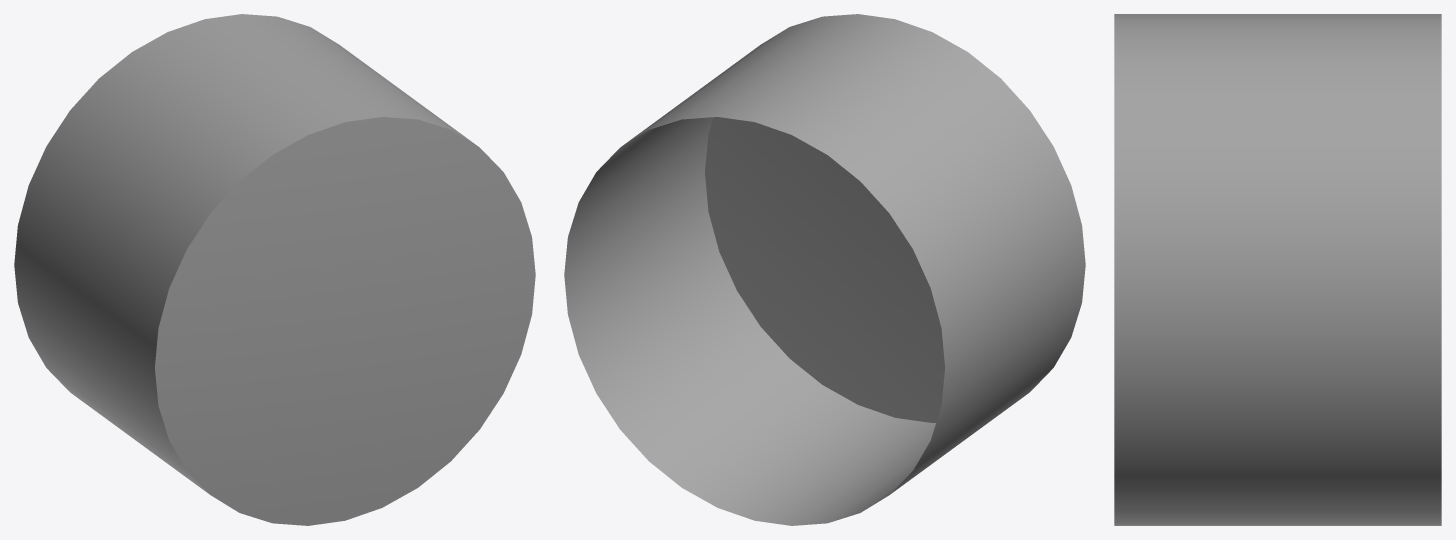
The model's file is addyokokui.fbx.
The picture shows the model from 3 angles, left to right: view 1: azimuth 30°, elevation 25°; view 2: azimuth 150°, elevation 25°; view 3: azimuth 270°, elevation 25°; orthographic projection. The views are drawn at different scales.
Visible parts, largest first — view 1: addyokokui0_05; view 2: addyokokui0_05; view 3: addyokokui0_05.
Part boxes in pixels (bbox=[...]): addyokokui0_05: bbox=[14, 14, 535, 525]; addyokokui0_05: bbox=[564, 14, 1085, 525]; addyokokui0_05: bbox=[1114, 14, 1441, 525].
Bounding box in the file's own units: 7.03 × 7.03 × 4.49.
